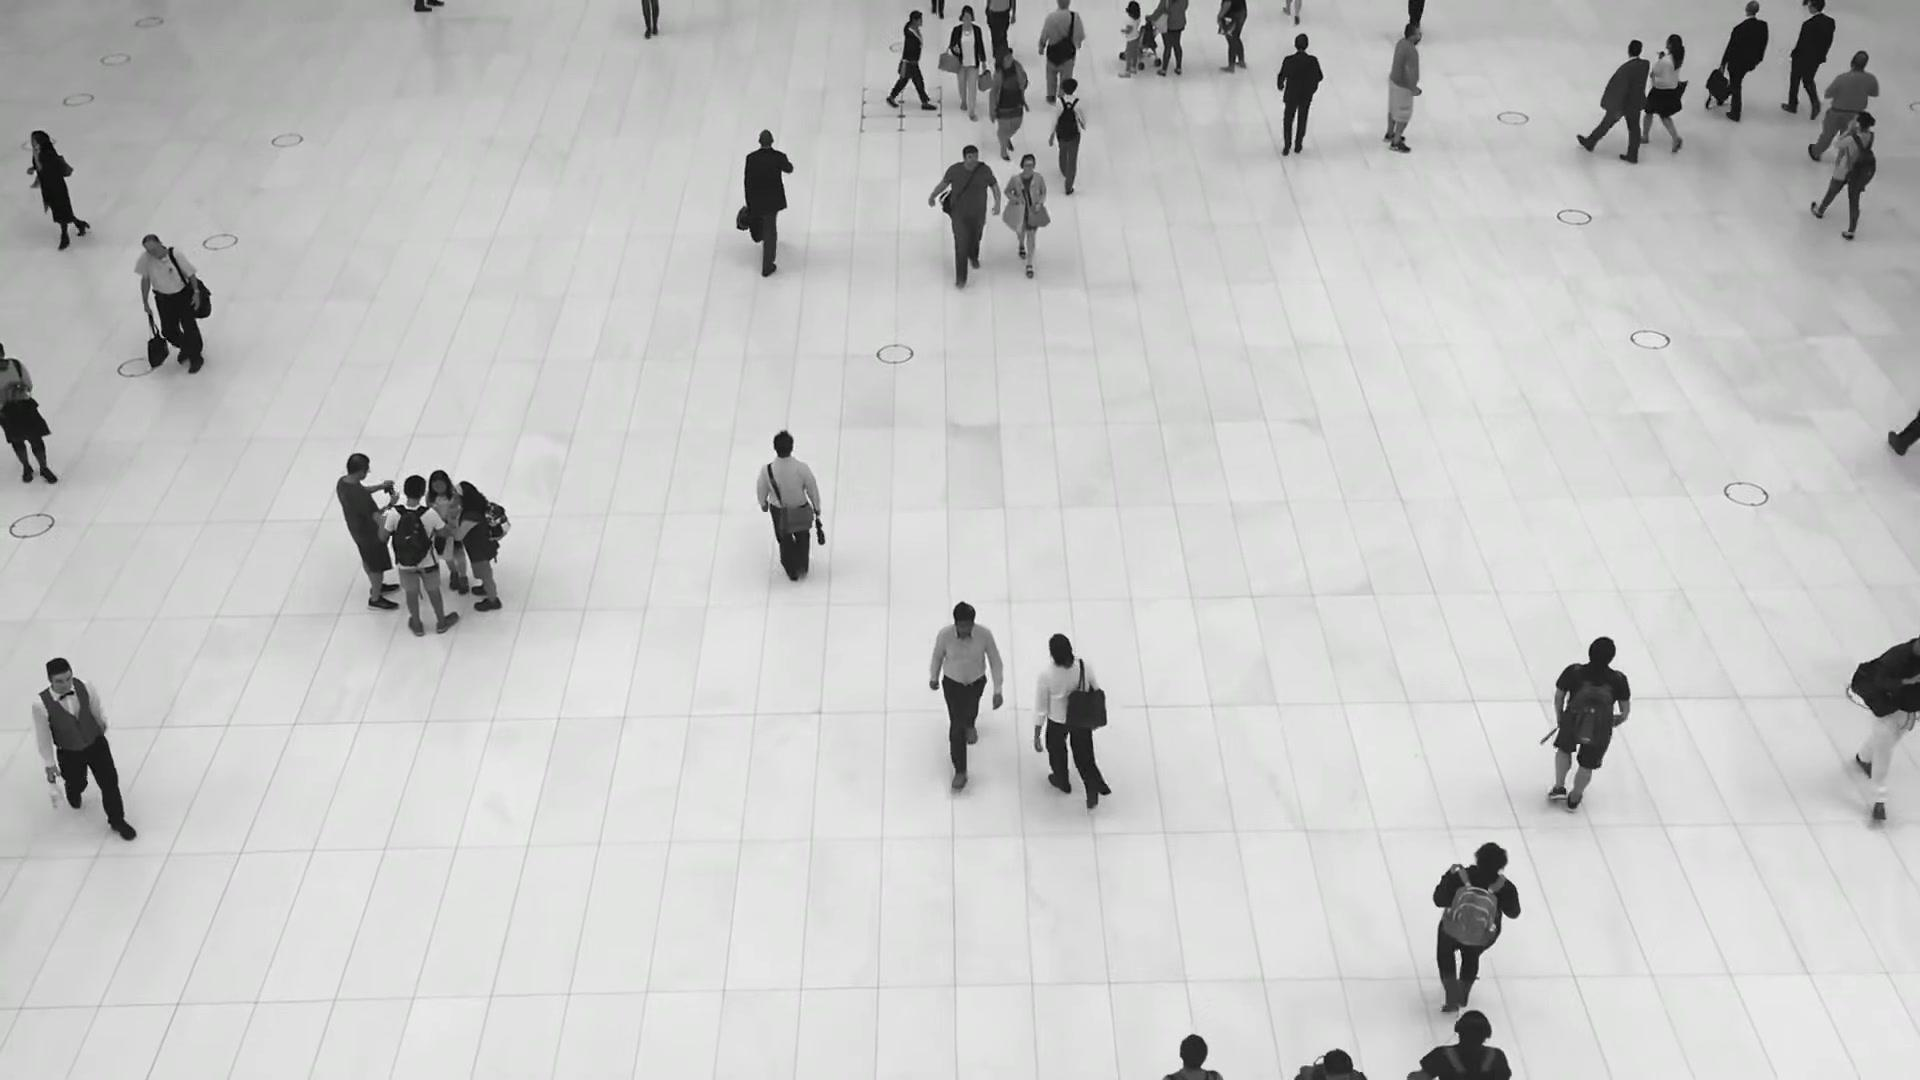person: (29, 655, 140, 840), (1549, 642, 1631, 835), (1430, 845, 1520, 1012), (1026, 632, 1102, 815), (929, 596, 1002, 774), (1852, 632, 1920, 818), (380, 477, 460, 635), (756, 433, 825, 597), (133, 235, 208, 382), (929, 142, 1002, 284), (335, 452, 401, 609), (1817, 109, 1880, 242), (0, 344, 56, 493), (1813, 47, 1880, 170), (741, 127, 796, 272), (28, 128, 86, 251), (451, 480, 504, 612), (1779, 2, 1836, 124), (1596, 38, 1651, 162), (1419, 1009, 1512, 1080), (1711, 2, 1769, 120), (1273, 36, 1322, 167), (1381, 23, 1429, 154), (1635, 34, 1687, 153), (424, 468, 469, 591), (1004, 151, 1048, 274), (983, 48, 1027, 162), (1038, 0, 1086, 100), (1049, 75, 1088, 191), (948, 3, 986, 115), (896, 10, 934, 111), (1116, 1, 1141, 78)
